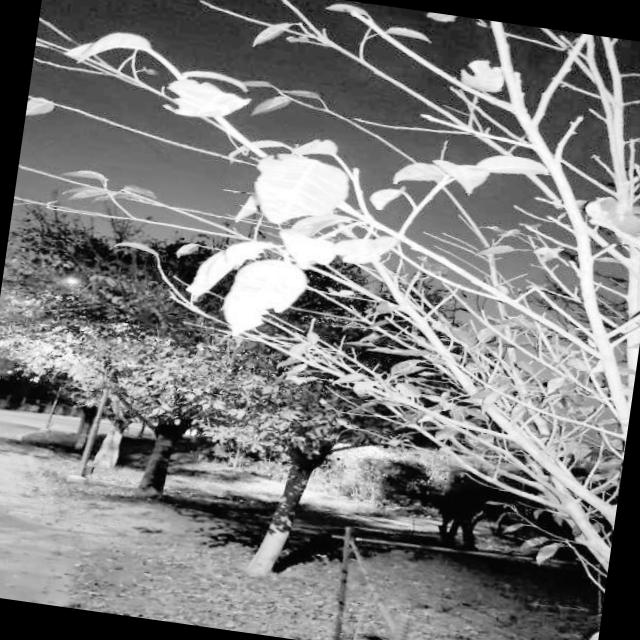Tree: (402, 19, 640, 591), (222, 368, 373, 595), (116, 296, 230, 498)
